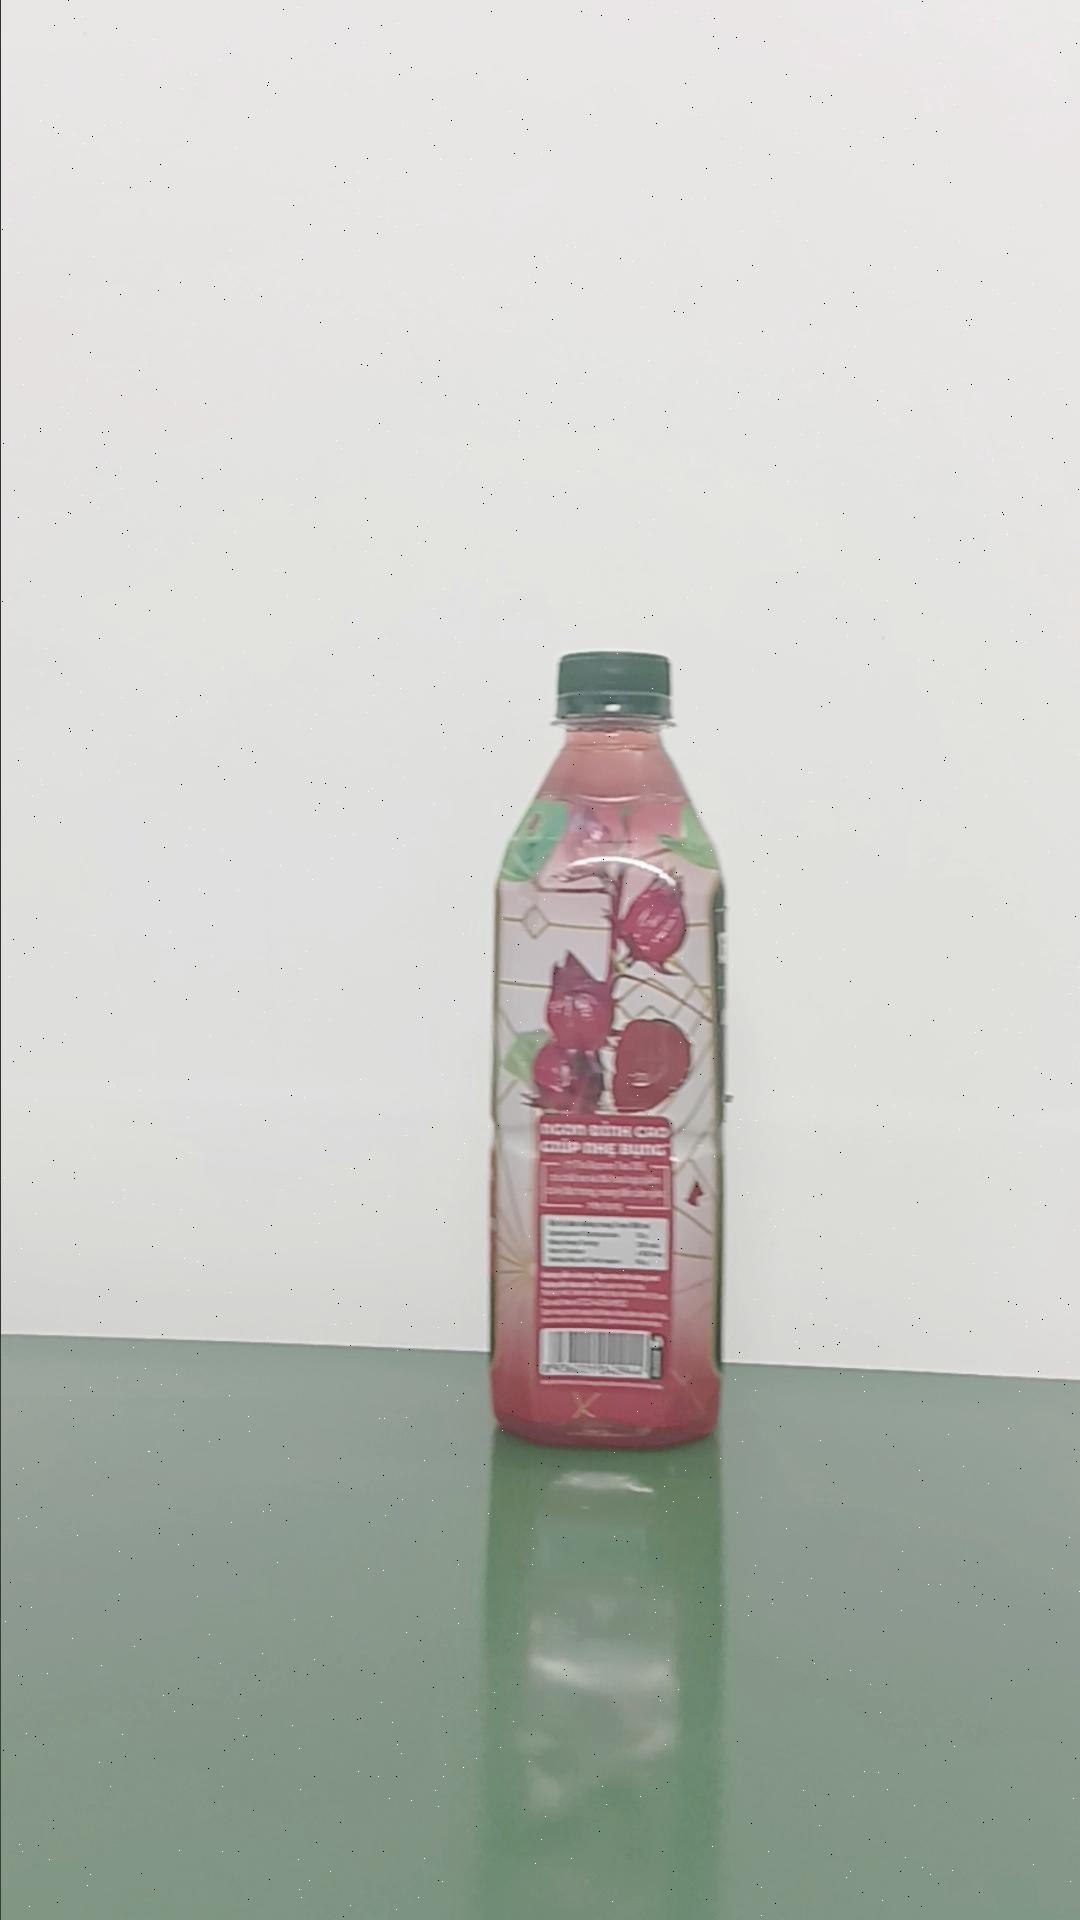loi rach va lap chai: (484, 649, 733, 1451)
